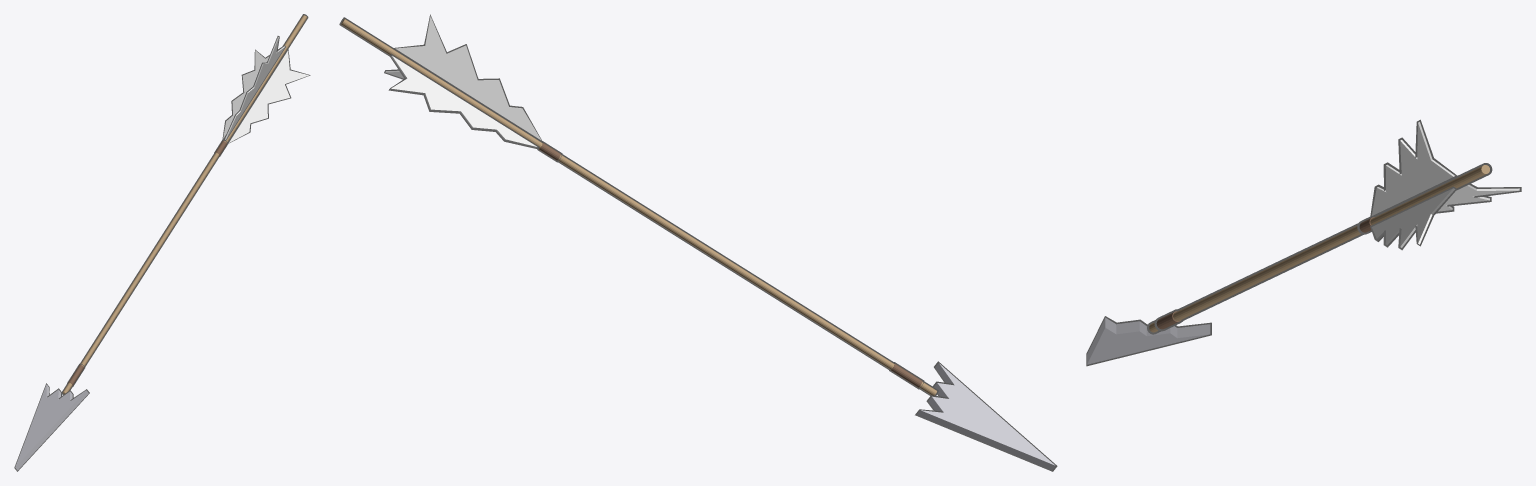
Rendered from aerrow3.glb.
3 renders of one model, left to right at view 1: azimuth 30°, elevation 25°; view 2: azimuth 150°, elevation 25°; view 3: azimuth 270°, elevation 25°, orthographic. The views are drawn at different scales.
Parts seen in each view (by area): view 1: Shaft, Arrowhead, Fin.001, Fin.002, Fin; view 2: Shaft, Arrowhead, Fin.002, Fin; view 3: Shaft, Fin.002, Arrowhead, Fin.001, Fin.
Part boxes in pixels (x1=…): Shaft: x1=61, y1=14, x2=308, y2=394; Arrowhead: x1=14, y1=383, x2=89, y2=471; Fin.001: x1=228, y1=49, x2=310, y2=143; Fin.002: x1=224, y1=36, x2=285, y2=140; Fin: x1=222, y1=47, x2=281, y2=139; Shaft: x1=339, y1=17, x2=938, y2=395; Arrowhead: x1=915, y1=361, x2=1057, y2=471; Fin.002: x1=394, y1=14, x2=542, y2=141; Fin: x1=388, y1=54, x2=539, y2=149; Shaft: x1=1147, y1=163, x2=1492, y2=334; Fin.002: x1=1370, y1=119, x2=1457, y2=217; Arrowhead: x1=1086, y1=316, x2=1211, y2=366; Fin.001: x1=1370, y1=186, x2=1457, y2=250; Fin: x1=1436, y1=184, x2=1521, y2=213.
Bounding box in the file's own units: 5.59 × 3.96 × 2.68.
